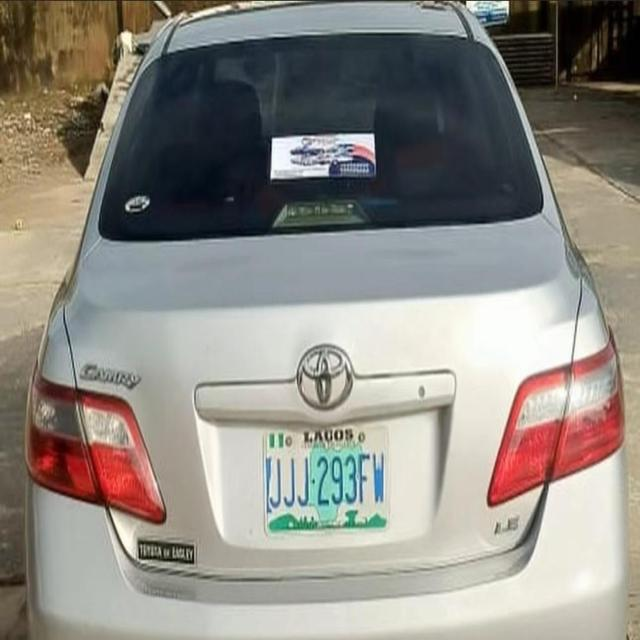Nigerian License Plate - vdataset benjamin-daria: (261, 420, 392, 542)
